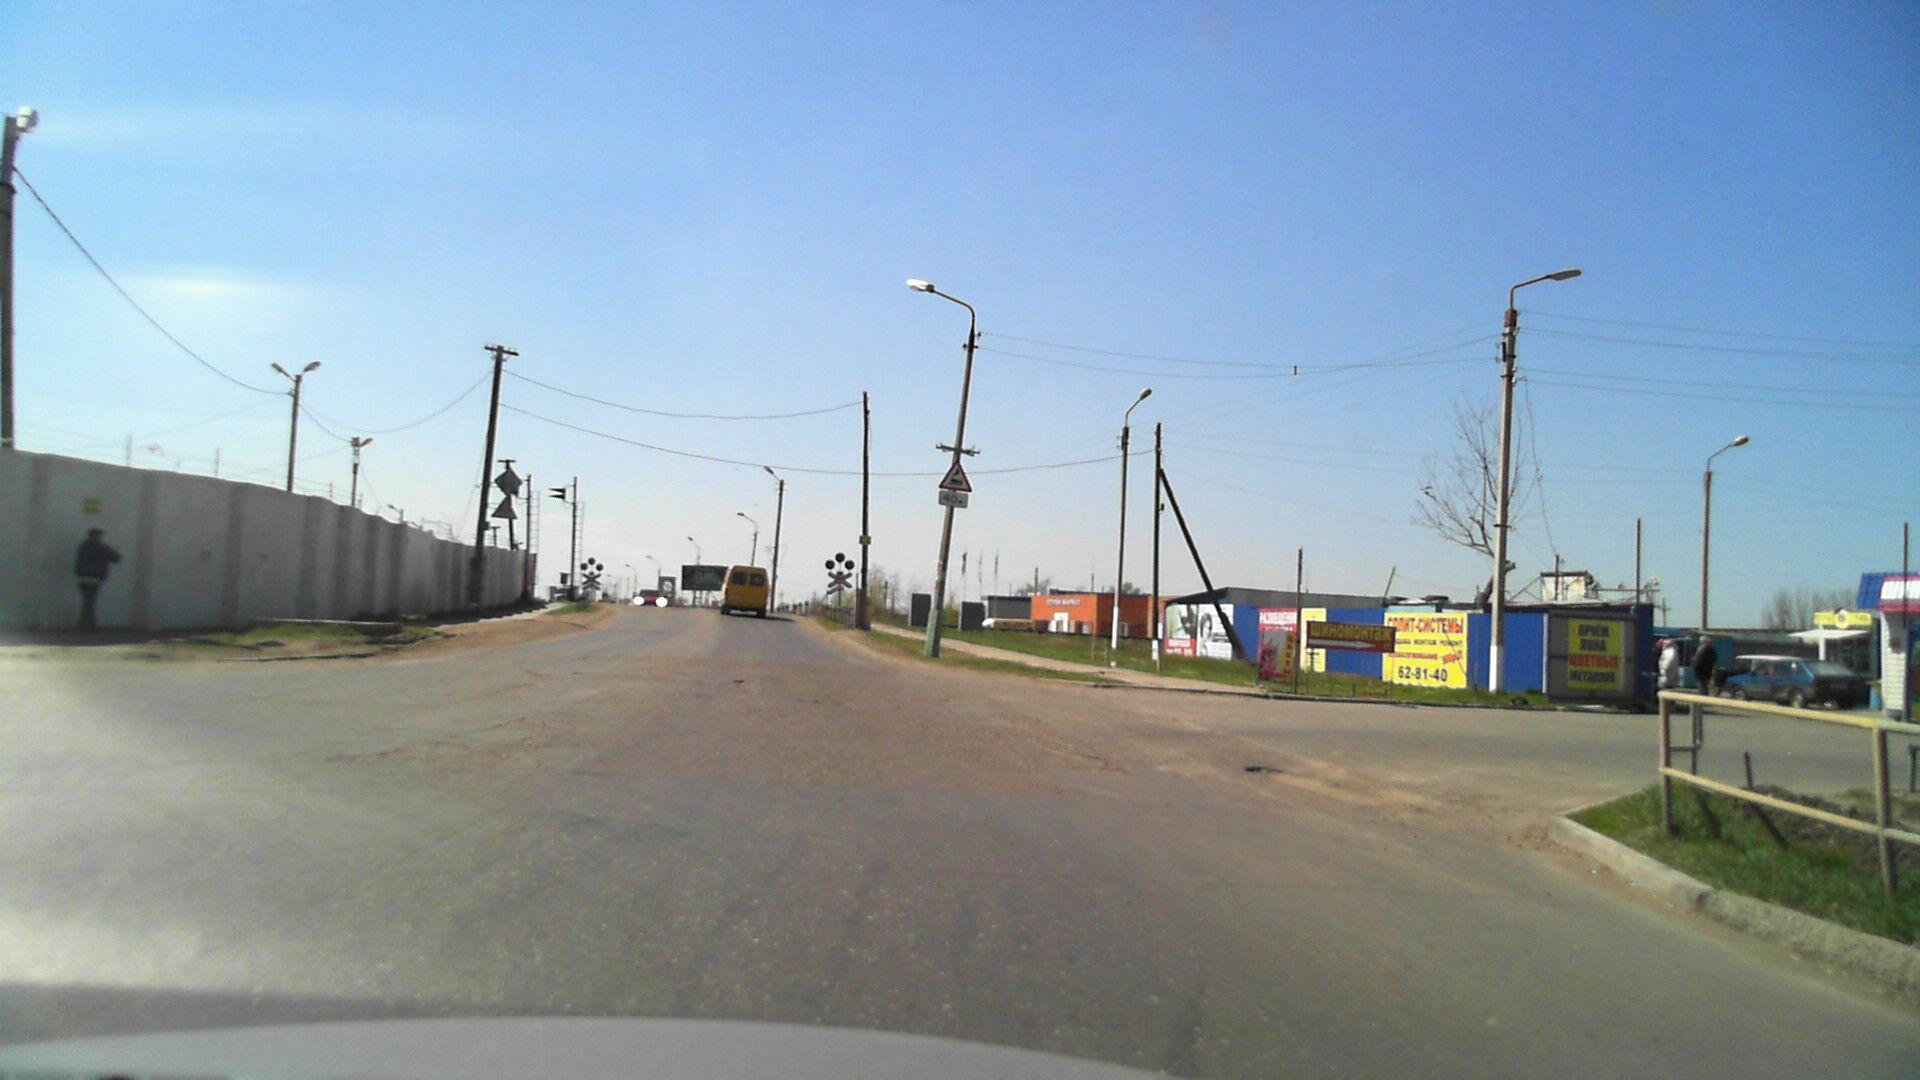1_2: (939, 459, 976, 492)
1_3_2: (825, 571, 853, 596)
8_1_1: (936, 491, 971, 508)
